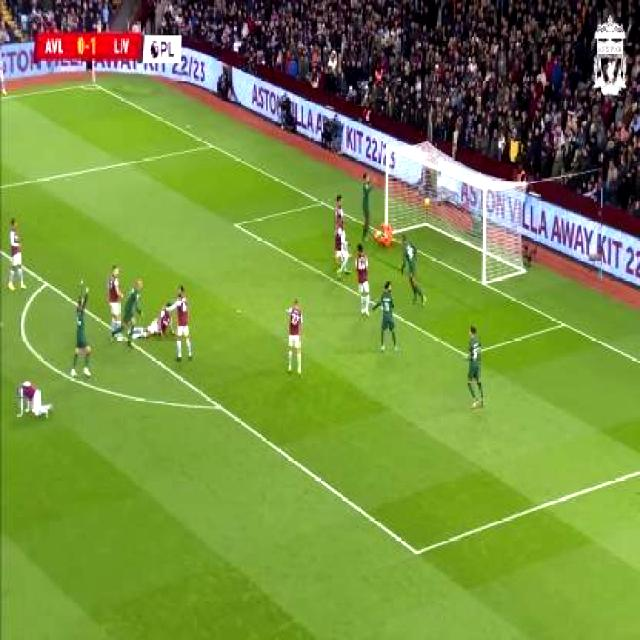bigarea_bottom_inner: (403, 530, 432, 578)
bigarea_top_outter: (203, 130, 222, 162)
bottom_arc_area_intersection: (206, 389, 231, 422)
corner: (86, 78, 105, 92)
smallarea_bottom_outter: (554, 311, 575, 338)
smallarea_top_inner: (226, 211, 248, 240)
smallarea_top_outter: (314, 190, 334, 218)
top_arc_area_intersection: (37, 272, 54, 297)
